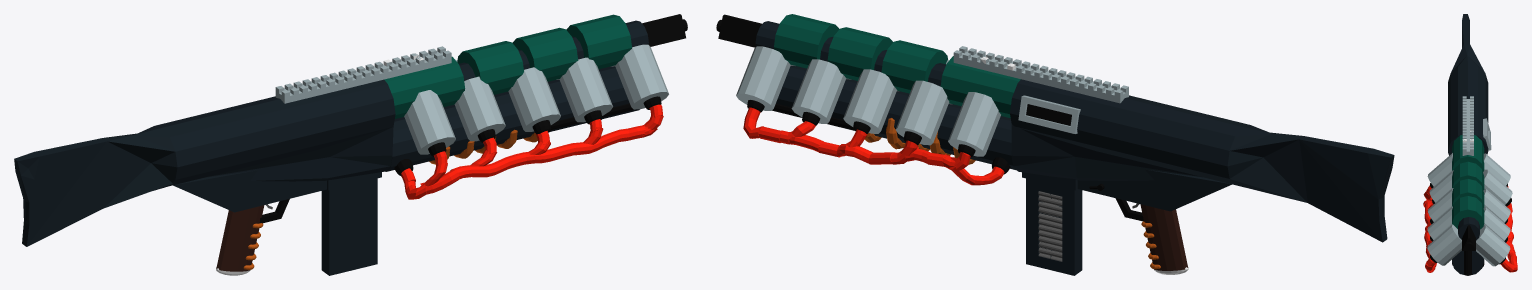
The model's file is coilgun_model.obj.
The picture shows the model from 3 angles, left to right: view 1: azimuth 30°, elevation 25°; view 2: azimuth 150°, elevation 25°; view 3: azimuth 270°, elevation 25°; orthographic projection. The views are drawn at different scales.
Visible parts, largest first — view 1: group247491669, group1904554140, group1516926612, group375765841, group566421478, group2095460028, group1327118298, group1866116027, group1824577645, group949866276, group1947802300, group1863454480 (+16 smaller); view 2: group247491669, group1904554140, group375765841, group1188936237, group566421478, group1516926612, group2095460028, group1866116027, group949866276, group1012465164, group1256159029, group1624715504 (+16 smaller); view 3: group1904554140, group1012465164, group1624715504, group317416324, group1256159029, group907120393, group949866276, group1866116027, group247491669, group1327118298, group1947802300, group1863454480 (+13 smaller).
Part boxes in pixels (<box>): group247491669: <box>14,126,177,246</box>; group1904554140: <box>155,94,336,185</box>; group1516926612: <box>321,178,377,275</box>; group375765841: <box>205,127,393,181</box>; group566421478: <box>385,66,639,171</box>; group2095460028: <box>173,170,326,212</box>; group1327118298: <box>325,79,395,145</box>; group1866116027: <box>384,56,465,118</box>; group1824577645: <box>450,125,645,178</box>; group949866276: <box>566,14,631,69</box>; group1947802300: <box>457,41,523,94</box>; group1863454480: <box>512,27,578,81</box>; group247491669: <box>1227,125,1394,242</box>; group1904554140: <box>1070,93,1249,184</box>; group375765841: <box>1011,124,1202,180</box>; group1188936237: <box>743,107,1004,185</box>; group566421478: <box>774,66,1016,170</box>; group1516926612: <box>1026,178,1082,275</box>; group2095460028: <box>1077,169,1231,211</box>; group1866116027: <box>940,56,1020,118</box>; group949866276: <box>774,14,839,68</box>; group1012465164: <box>736,46,795,110</box>; group1256159029: <box>791,59,851,123</box>; group1624715504: <box>895,60,952,145</box>; group1904554140: <box>1448,64,1488,131</box>; group1012465164: <box>1427,224,1510,266</box>; group1624715504: <box>1429,169,1512,204</box>; group317416324: <box>1427,188,1510,222</box>; group1256159029: <box>1427,206,1510,240</box>; group907120393: <box>1427,153,1510,186</box>; group949866276: <box>1452,196,1484,229</box>; group1866116027: <box>1452,135,1484,171</box>; group247491669: <box>1451,14,1484,72</box>; group1327118298: <box>1448,116,1488,155</box>; group1947802300: <box>1452,161,1484,190</box>; group1863454480: <box>1452,179,1484,207</box>.
Bounding box in the file's own units: 2.5 × 0.69 × 0.4685.
